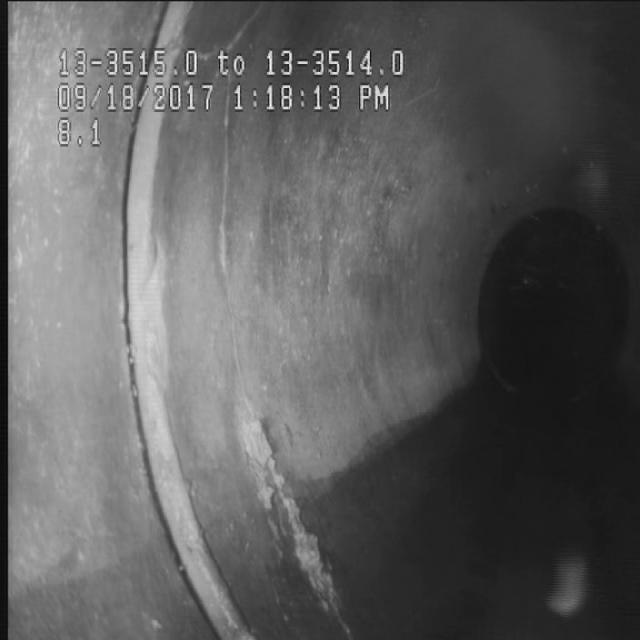Crack: (206, 145, 298, 608)
